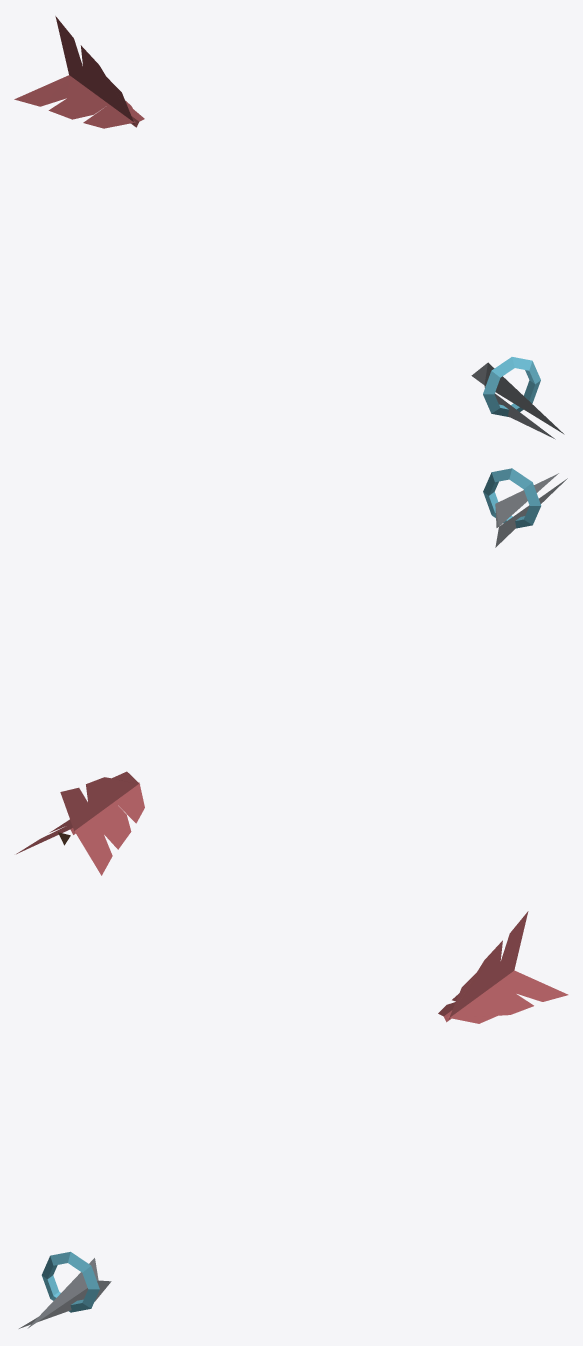
File: vibrodart.lod.glb
3 views of the same model, one above another, from view 1: azimuth 30°, elevation 25°; view 2: azimuth 150°, elevation 25°; view 3: azimuth 330°, elevation 25° (orthographic).
Visible parts, largest first — view 1: m; view 2: m; view 3: m.
Boxes of the visible parts, x1=… form: m: x1=14, y1=16, x2=564, y2=439; m: x1=16, y1=468, x2=567, y2=875; m: x1=19, y1=911, x2=568, y2=1328.
Bounding box in the file's own units: 0.012 × 0.0105 × 0.12.
